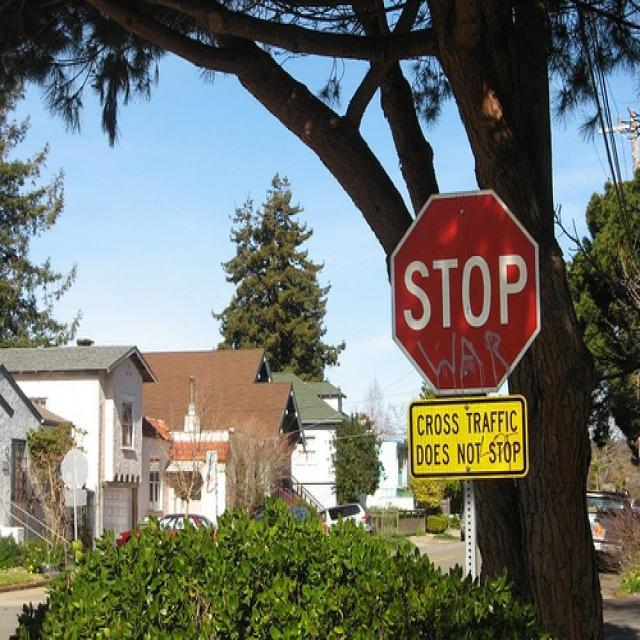car: (584, 485, 631, 570), (154, 510, 216, 543), (317, 500, 374, 531), (628, 495, 638, 510)
pole: (458, 478, 479, 580)
